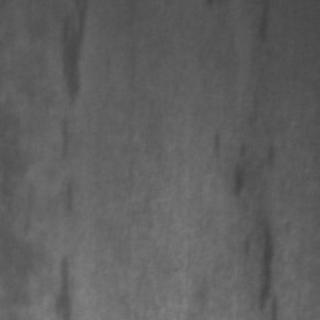inclusion: (210, 128, 276, 316), (50, 1, 86, 108), (48, 114, 76, 212), (47, 240, 75, 318), (253, 0, 275, 48)
